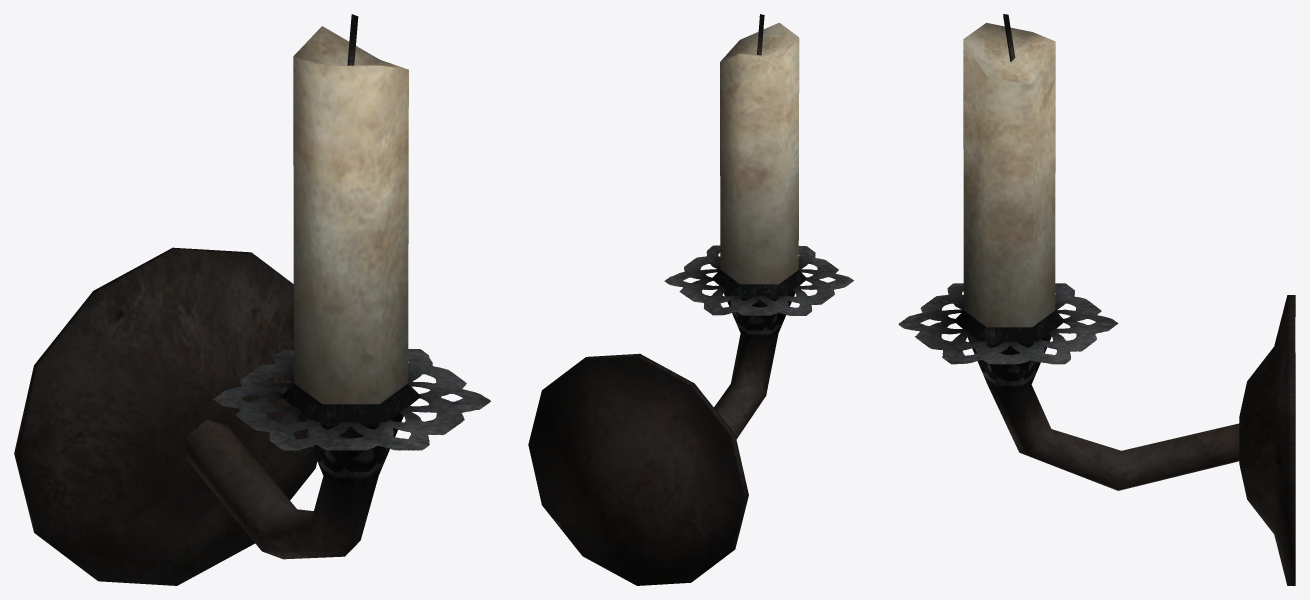
File: candlestick_wall.dae
The picture shows the model from 3 angles, left to right: view 1: azimuth 30°, elevation 25°; view 2: azimuth 150°, elevation 25°; view 3: azimuth 270°, elevation 25°; orthographic projection. The views are drawn at different scales.
Parts seen in each view (by area): view 1: polySurface23_009; view 2: polySurface23_009; view 3: polySurface23_009.
Boxes of the visible parts, bbox=[...] form: polySurface23_009: bbox=[14, 14, 490, 585]; polySurface23_009: bbox=[528, 14, 853, 585]; polySurface23_009: bbox=[898, 14, 1295, 585].
Bounding box in the file's own units: 0.241 × 0.3341 × 0.5094.
Materials: 1 (1 with a texture image).
